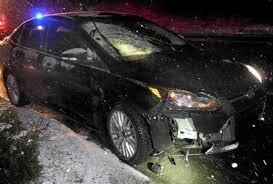Broken-glass: (81, 19, 183, 59)
Dent: (153, 107, 237, 154)
